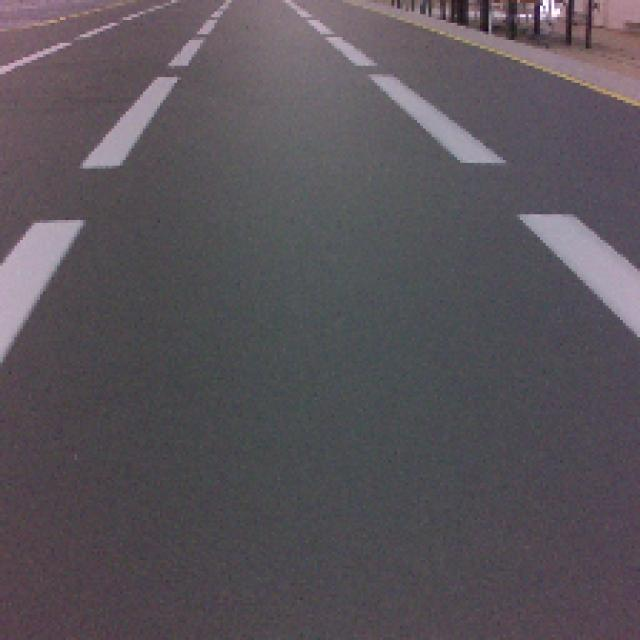Road: (0, 217, 638, 630)
